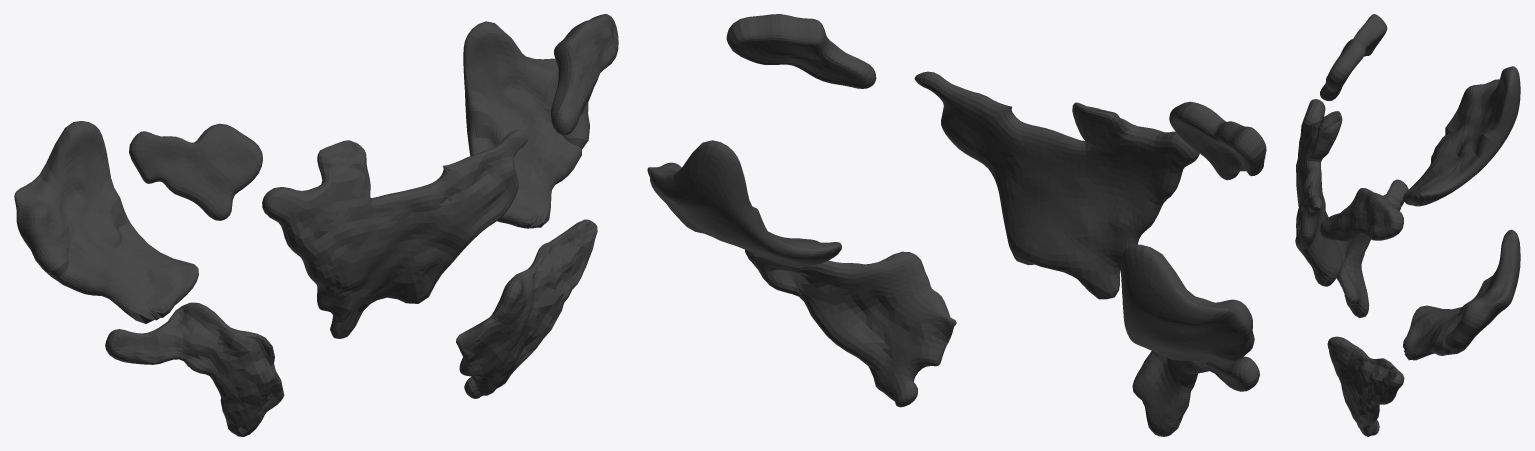
Rendered from water_drops.glb.
The picture shows the model from 3 angles, left to right: view 1: azimuth 30°, elevation 25°; view 2: azimuth 150°, elevation 25°; view 3: azimuth 270°, elevation 25°; orthographic projection. The views are drawn at different scales.
Visible parts, largest first — view 1: water_drops; view 2: water_drops; view 3: water_drops.
Part boxes in pixels (x1,y1,x2,y2): water_drops: (14, 14, 618, 436); water_drops: (647, 14, 1266, 436); water_drops: (1295, 14, 1520, 436).
Size of the model in its own units: 0.117 by 0.0685 by 0.0488.
1 material, 1 textured.
